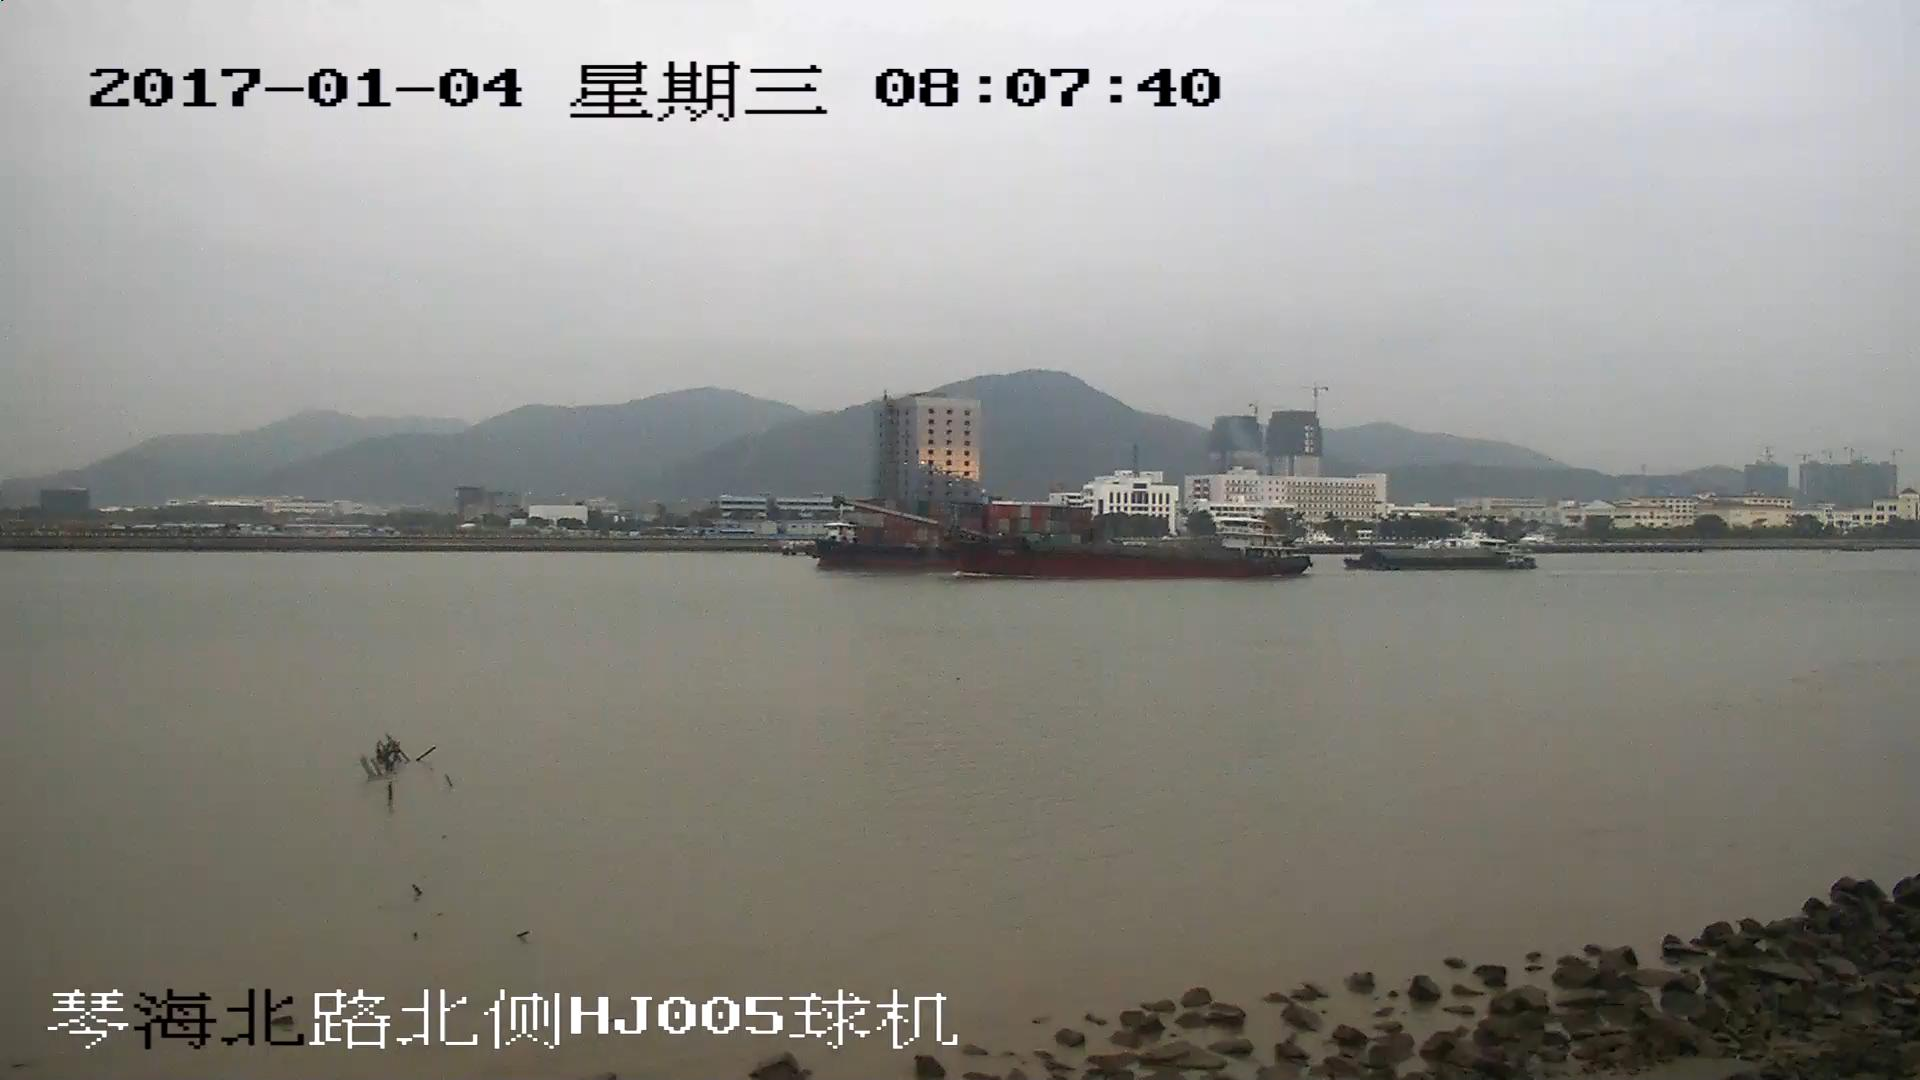bulk cargo carrier: (837, 500, 1309, 573)
container ship: (809, 496, 1089, 535)
